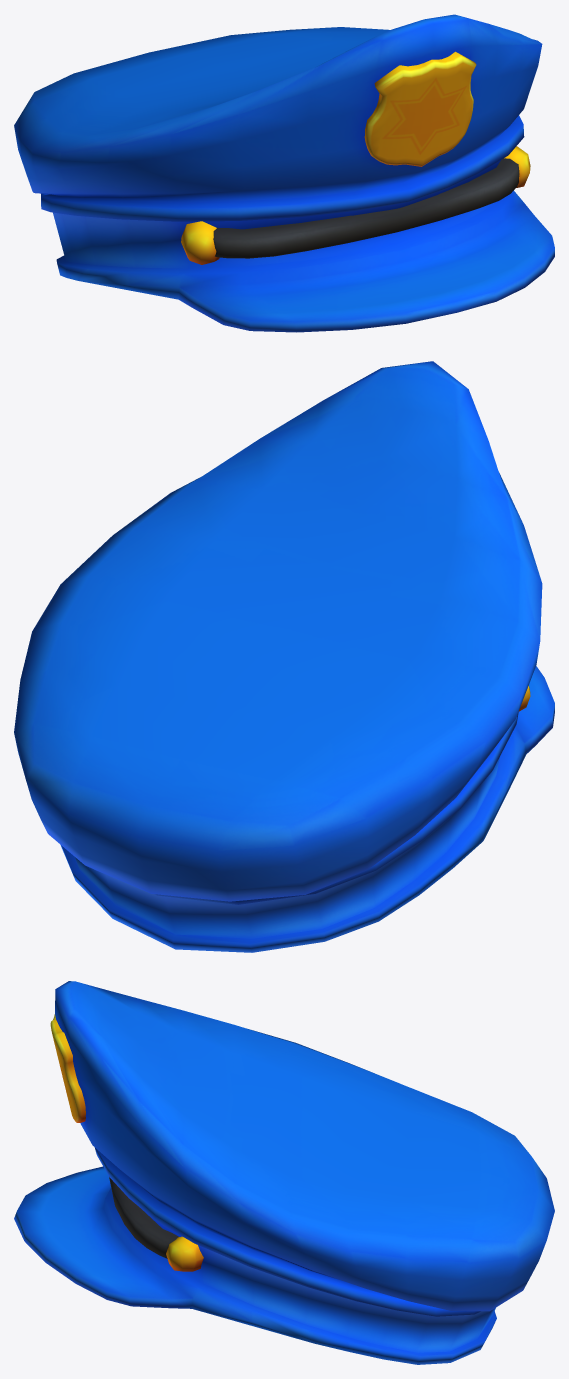
File: Police_Hat.glb
3 renders of one model, top to bottom at view 1: azimuth 30°, elevation 25°; view 2: azimuth 150°, elevation 25°; view 3: azimuth 270°, elevation 25°, orthographic. The views are drawn at different scales.
Visible parts, largest first — view 1: Police_Hat; view 2: Police_Hat; view 3: Police_Hat.
Part boxes in pixels (x1,y1,x2,y2): Police_Hat: (14, 14, 554, 332); Police_Hat: (14, 361, 554, 952); Police_Hat: (14, 981, 554, 1364).
Size of the model in its own units: 0.5484 by 0.4544 by 0.657.
1 material, 1 textured.
